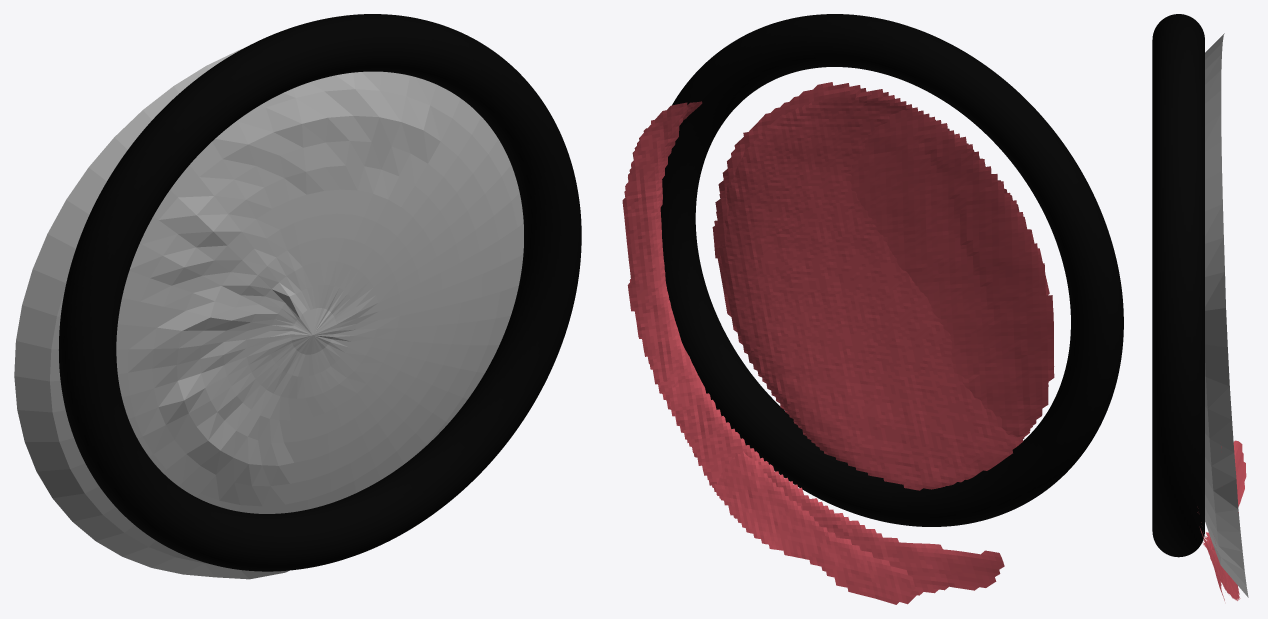
Rendered from G06_H1_FULL_HERO.glb.
The picture shows the model from 3 angles, left to right: view 1: azimuth 30°, elevation 25°; view 2: azimuth 150°, elevation 25°; view 3: azimuth 270°, elevation 25°; orthographic projection. The views are drawn at different scales.
Parts seen in each view (by area): view 1: Body_A2, Ring; view 2: 004_G06_v004_raw00744, Ring, 004_G06_v004_raw00046; view 3: Ring, Body_A2, 004_G06_v004_raw00046, 004_G06_v004_raw00744.
Part boxes in pixels (<box>): Body_A2: <box>14,48,523,579</box>; Ring: <box>59,14,581,571</box>; 004_G06_v004_raw00744: <box>624,97,1049,604</box>; Ring: <box>660,14,1123,526</box>; 004_G06_v004_raw00046: <box>622,82,1054,595</box>; Ring: <box>1152,14,1204,557</box>; Body_A2: <box>1205,33,1248,597</box>; 004_G06_v004_raw00046: <box>1202,440,1246,600</box>; 004_G06_v004_raw00744: <box>1197,512,1240,600</box>.
Bounding box in the file's own units: 0.013 × 0.0137 × 0.00231.
